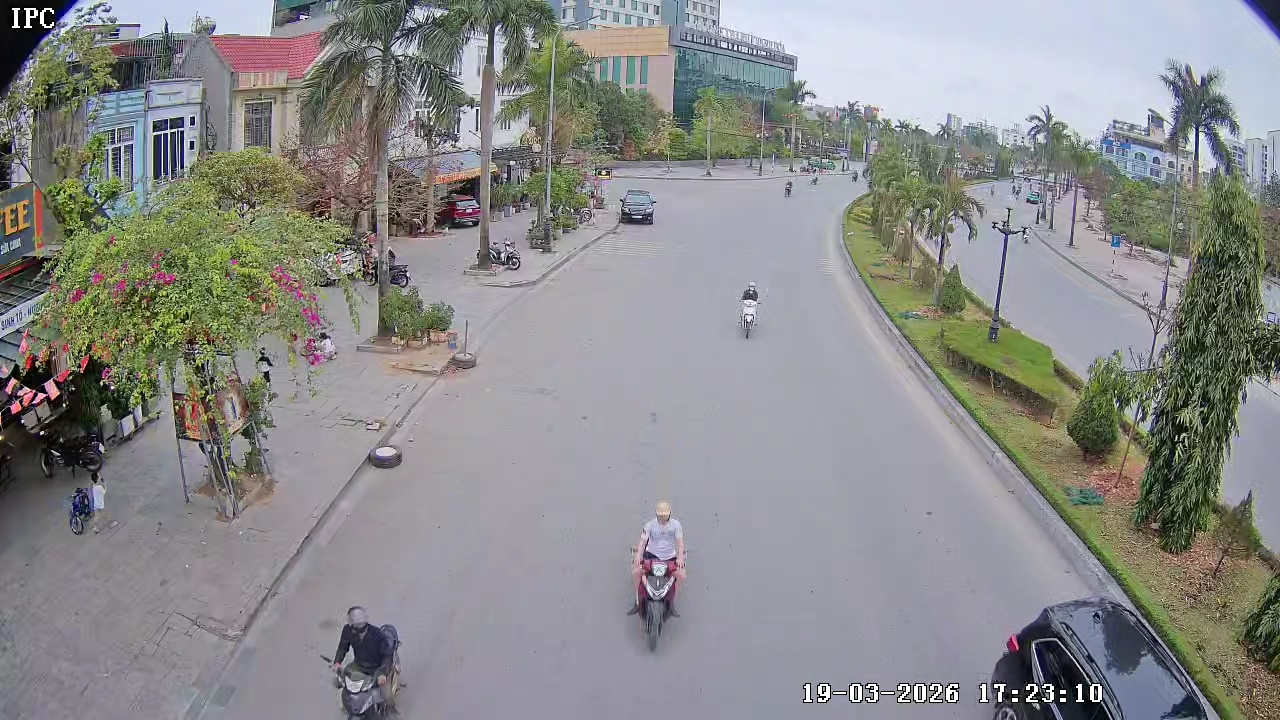car: (977, 593, 1226, 719), (616, 187, 658, 224)
motorbike: (623, 499, 689, 654), (320, 603, 406, 719), (736, 280, 763, 339)
